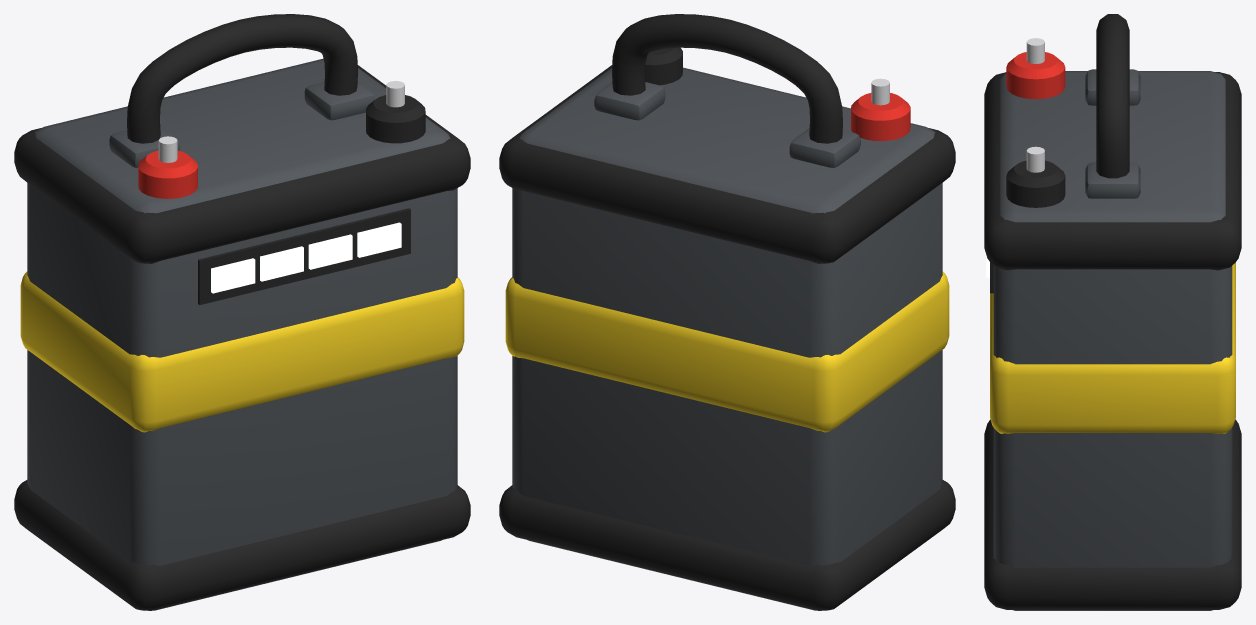
The model's file is SM_Battery.fbx.
3 views of the same model, side by side, from view 1: azimuth 30°, elevation 25°; view 2: azimuth 150°, elevation 25°; view 3: azimuth 270°, elevation 25° (orthographic). The views are drawn at different scales.
Visible parts, largest first — view 1: SM_Battery; view 2: SM_Battery; view 3: SM_Battery.
Part boxes in pixels (x1=…): SM_Battery: x1=14, y1=14, x2=470, y2=610; SM_Battery: x1=499, y1=14, x2=955, y2=610; SM_Battery: x1=984, y1=14, x2=1241, y2=610.
Bounding box in the file's own units: 0.21 × 0.3036 × 0.14.
